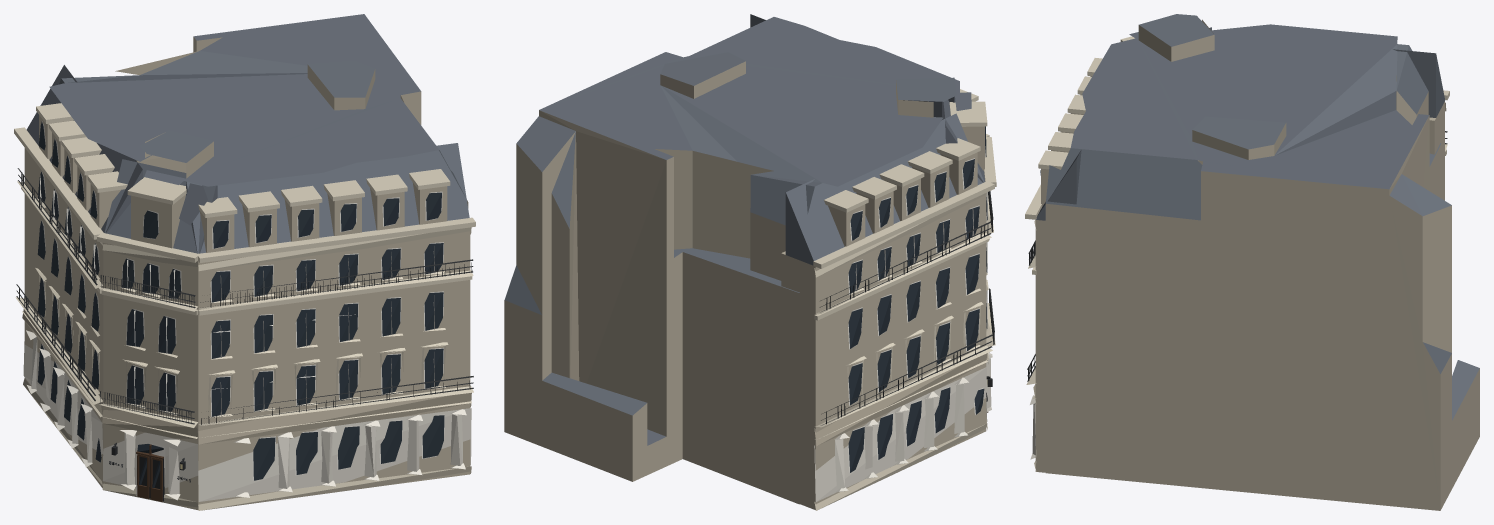
Rendered from banks-mansion.lod1.glb.
3 views of the same model, side by side, from view 1: azimuth 30°, elevation 25°; view 2: azimuth 150°, elevation 25°; view 3: azimuth 270°, elevation 25° (orthographic). The views are drawn at different scales.
Parts seen in each view (by area): view 1: banks-mansion; view 2: banks-mansion; view 3: banks-mansion.
Part boxes in pixels (<box>): banks-mansion: <box>14,14,475,510</box>; banks-mansion: <box>504,14,996,510</box>; banks-mansion: <box>1025,14,1479,510</box>.
Size of the model in its own units: 27.44 by 22.88 by 28.31.
